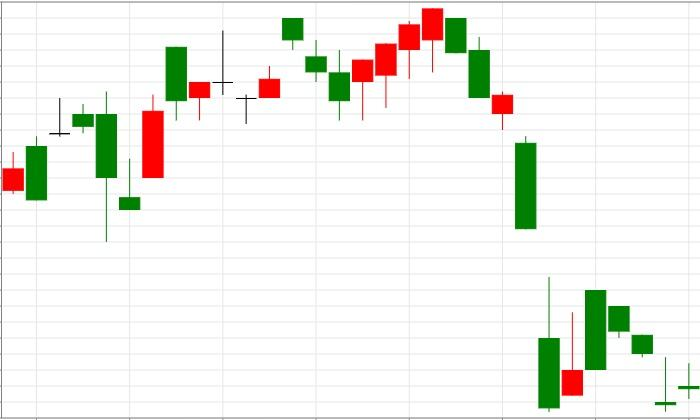inverse_hammer_rise: (445, 17, 583, 412)
